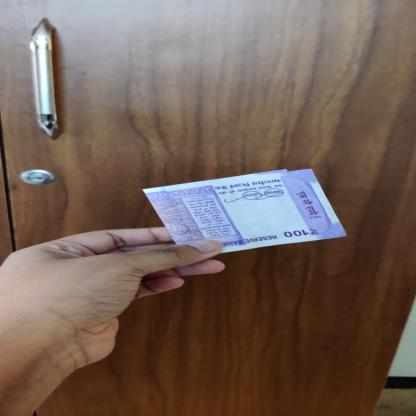New100Back: (141, 168, 352, 255)
